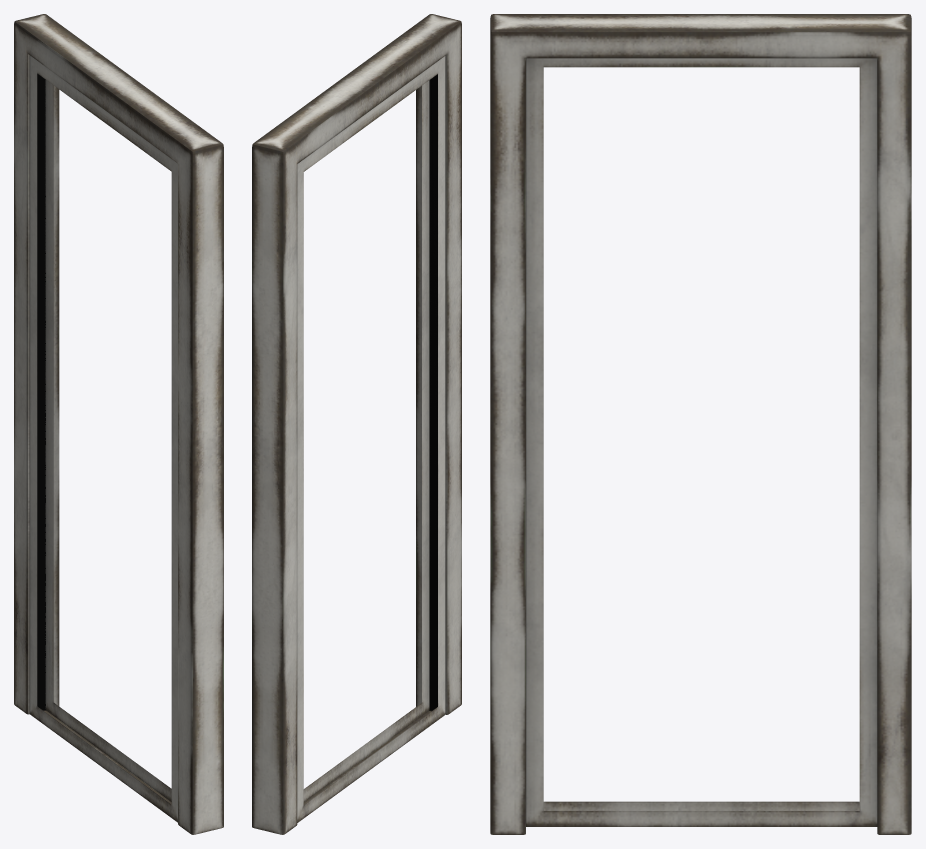
File: soviet_door_frame.glb
3 views of the same model, side by side, from view 1: azimuth 30°, elevation 25°; view 2: azimuth 150°, elevation 25°; view 3: azimuth 270°, elevation 25° (orthographic). The views are drawn at different scales.
Parts seen in each view (by area): view 1: Frame; view 2: Frame; view 3: Frame.
Part boxes in pixels (left/top/right/bottom): Frame: left=14, top=14, right=223, bottom=834; Frame: left=252, top=14, right=461, bottom=834; Frame: left=490, top=14, right=911, bottom=834.
Size of the model in its own units: 100 by 2020 by 960.
Materials: 1 (1 with a texture image).
